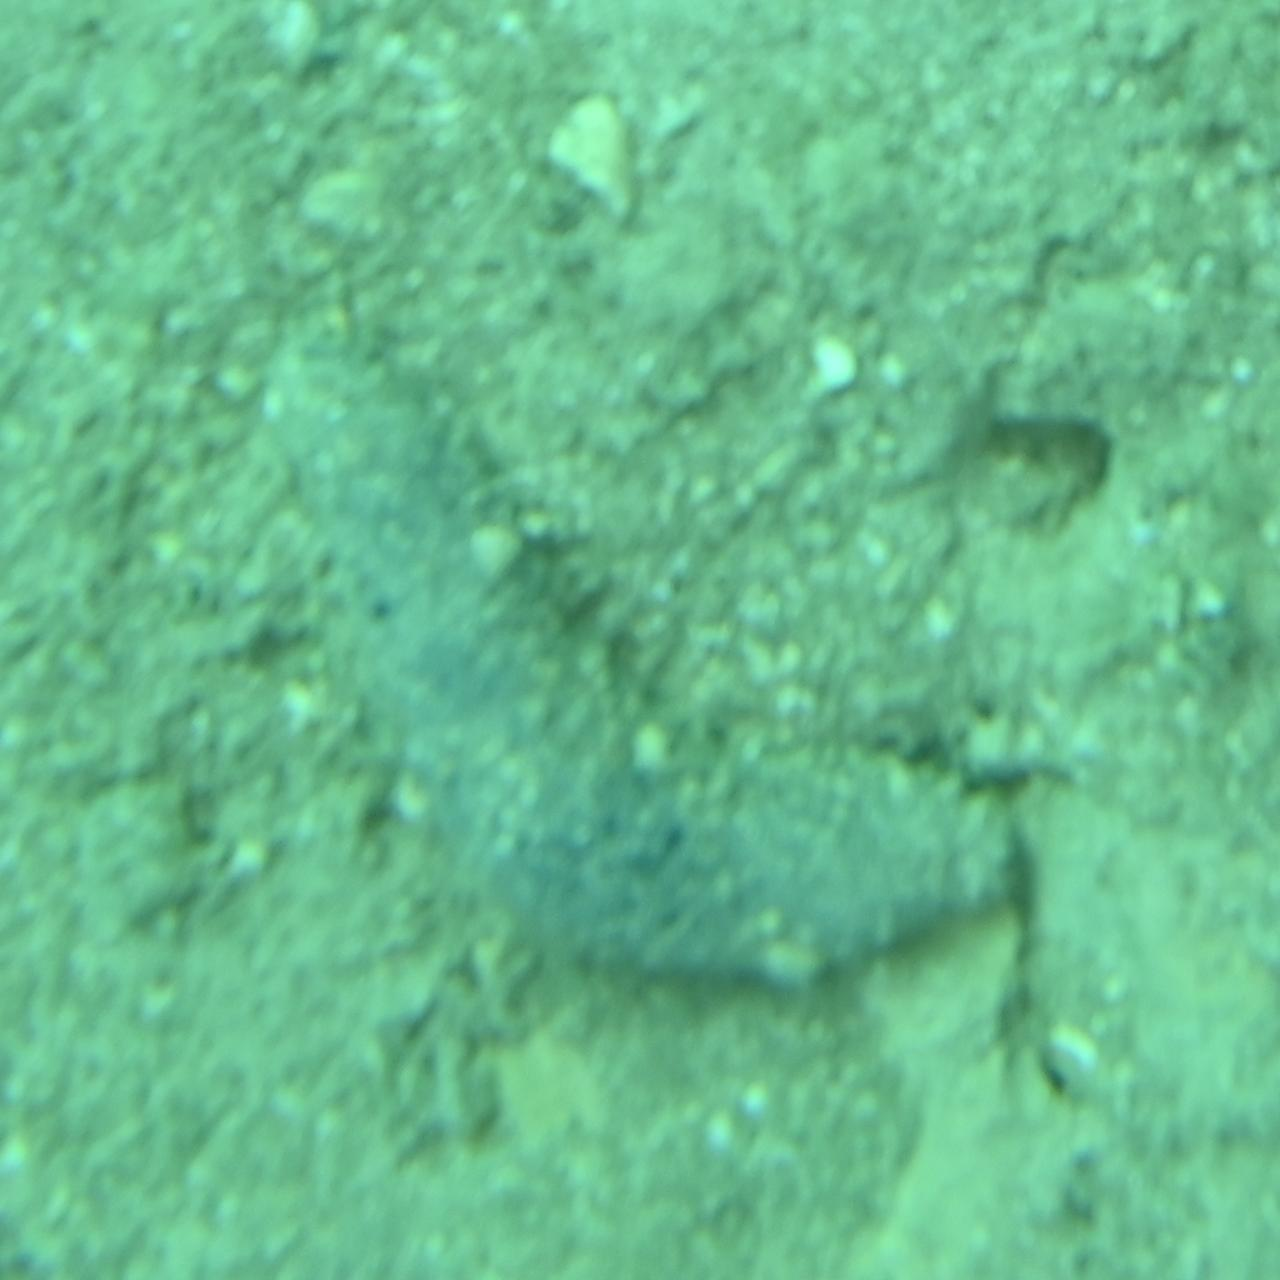Holothuria tubulosa: (253, 347, 1027, 1000)
